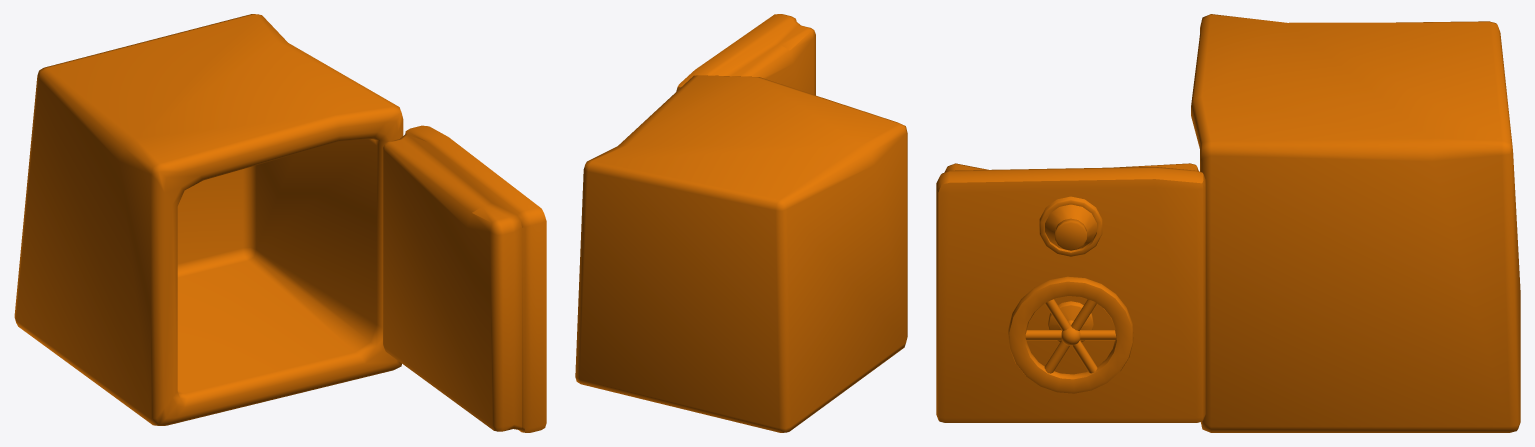
Rendered from SM_Strongbox.fbx.
3 renders of one model, left to right at view 1: azimuth 30°, elevation 25°; view 2: azimuth 150°, elevation 25°; view 3: azimuth 270°, elevation 25°, orthographic. The views are drawn at different scales.
Parts seen in each view (by area): view 1: SM_Strongbox, SM_Strongbox_Door; view 2: SM_Strongbox, SM_Strongbox_Door; view 3: SM_Strongbox, SM_Strongbox_Door, SM_Strongbox_DoorDetail.
Boxes of the visible parts, x1,y1,x2,y2 form: SM_Strongbox: [14, 14, 403, 425]; SM_Strongbox_Door: [383, 125, 546, 432]; SM_Strongbox: [575, 75, 907, 432]; SM_Strongbox_Door: [676, 14, 815, 95]; SM_Strongbox: [1191, 14, 1520, 432]; SM_Strongbox_Door: [936, 163, 1205, 422]; SM_Strongbox_DoorDetail: [1008, 276, 1133, 393].
Bounding box in the file's own units: 123 × 104 × 182.
